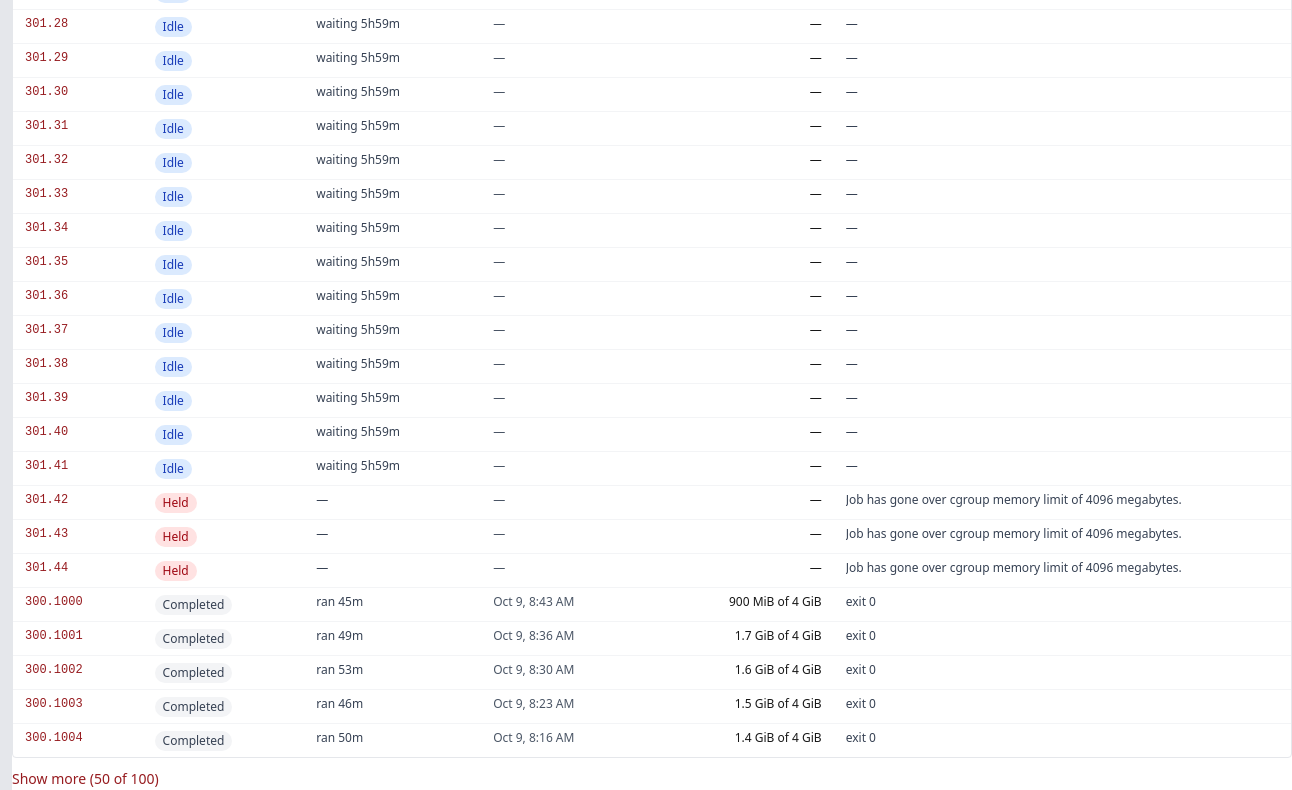
JobsSection › lists live and finished jobs a page at a time, each linking to its page
(page scrolled)
Click the button "Show more (50 of 100)": (85,779) [12, 769, 159, 789]
(page scrolled)
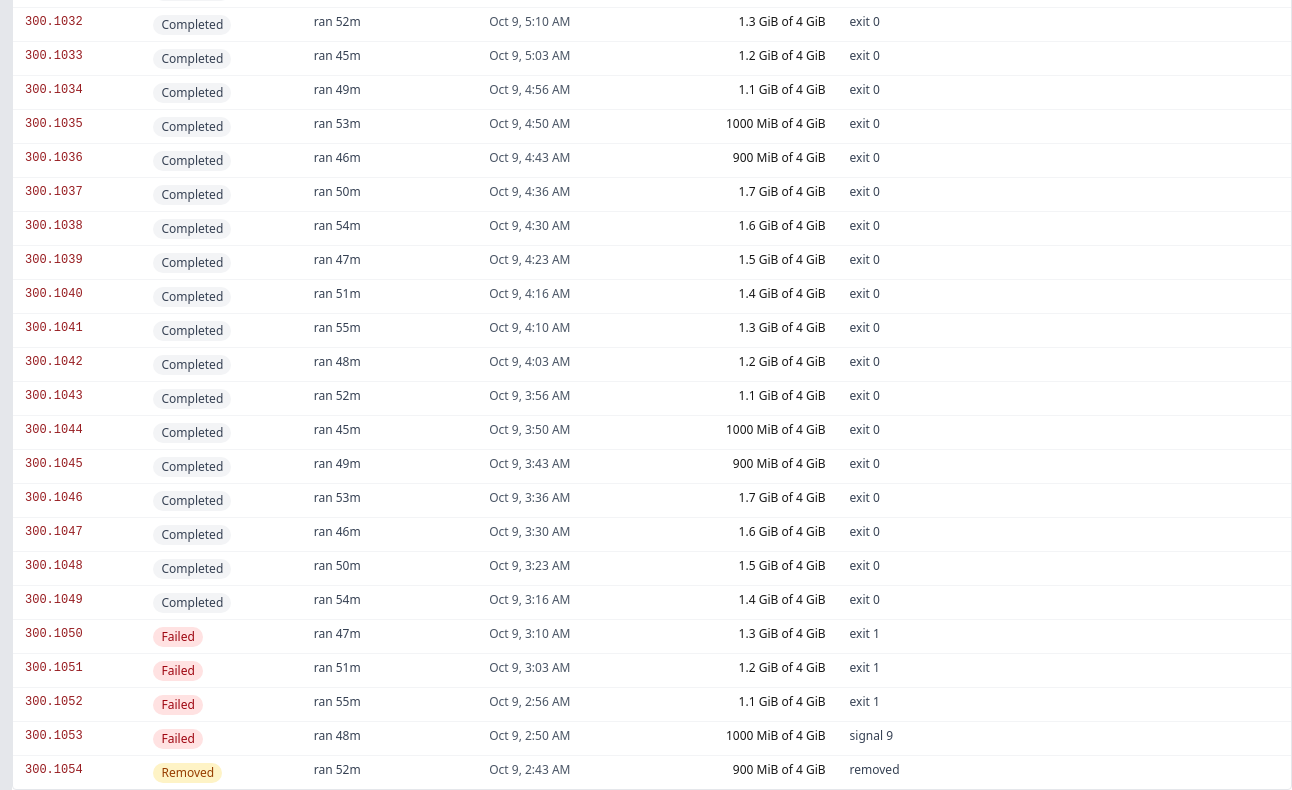
Now the row with test id "batch-job-row" shows "Removed", box [162, 764, 214, 781]
